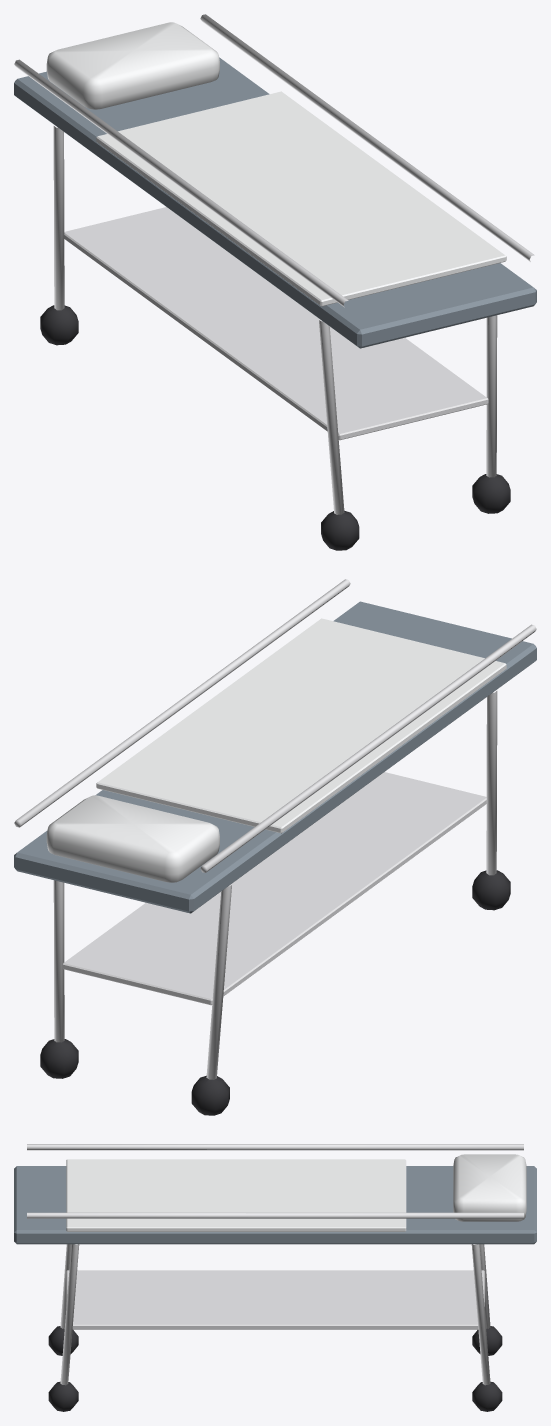
File: stretcher.glb
3 renders of one model, top to bottom at view 1: azimuth 30°, elevation 25°; view 2: azimuth 150°, elevation 25°; view 3: azimuth 270°, elevation 25°, orthographic. The views are drawn at different scales.
Visible parts, largest first — view 1: stretcher; view 2: stretcher; view 3: stretcher.
Part boxes in pixels (<box>): stretcher: <box>14,14,536,550</box>; stretcher: <box>14,579,536,1115</box>; stretcher: <box>14,1144,536,1411</box>.
Bounding box in the file's own units: 0.644 × 0.87 × 2.
